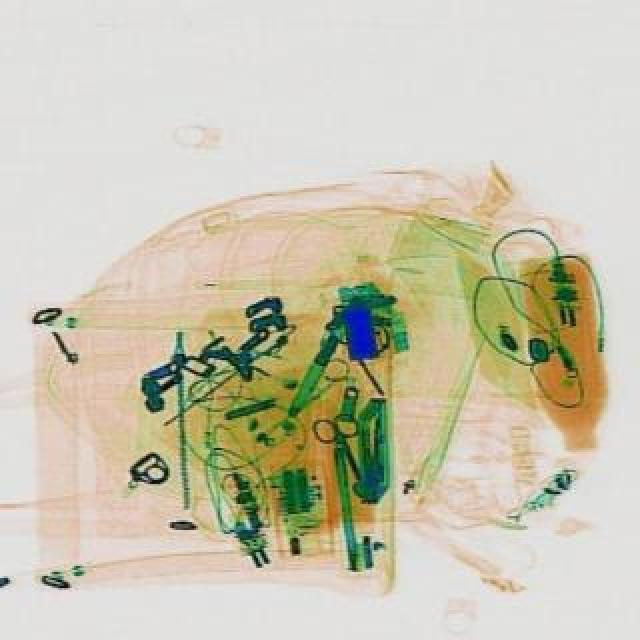pliers: (306, 408, 376, 486)
